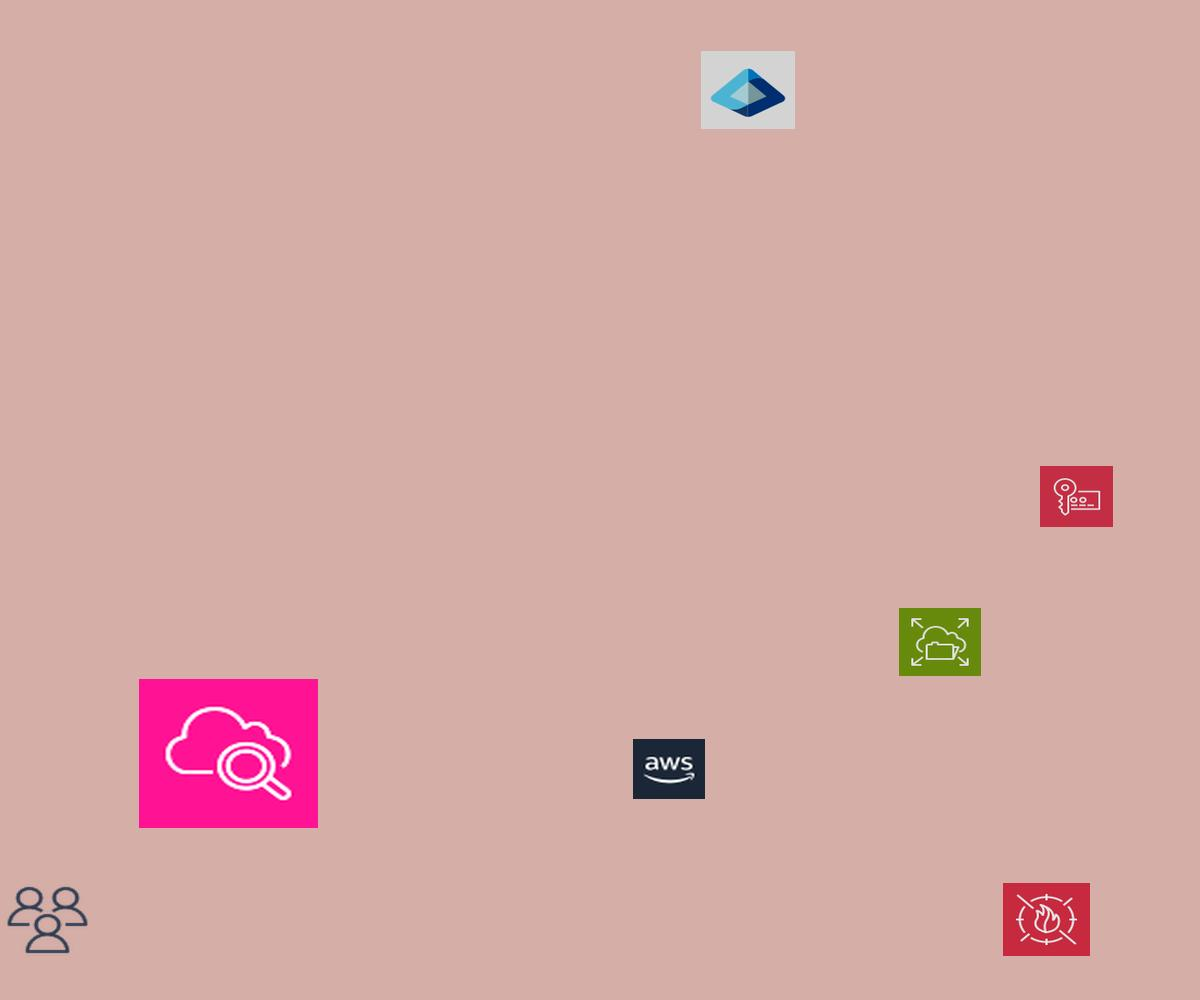AWS-Cloud-logo: (633, 739, 705, 799)
AWS-CloudWatch: (139, 679, 318, 828)
AWS-EFS: (899, 608, 981, 676)
AWS-Key-Management-Service: (1040, 466, 1113, 527)
AWS-Res_Users: (4, 884, 91, 956)
AWS-WAF: (1003, 883, 1090, 956)
Azure_microsoft_entra: (701, 51, 795, 129)
